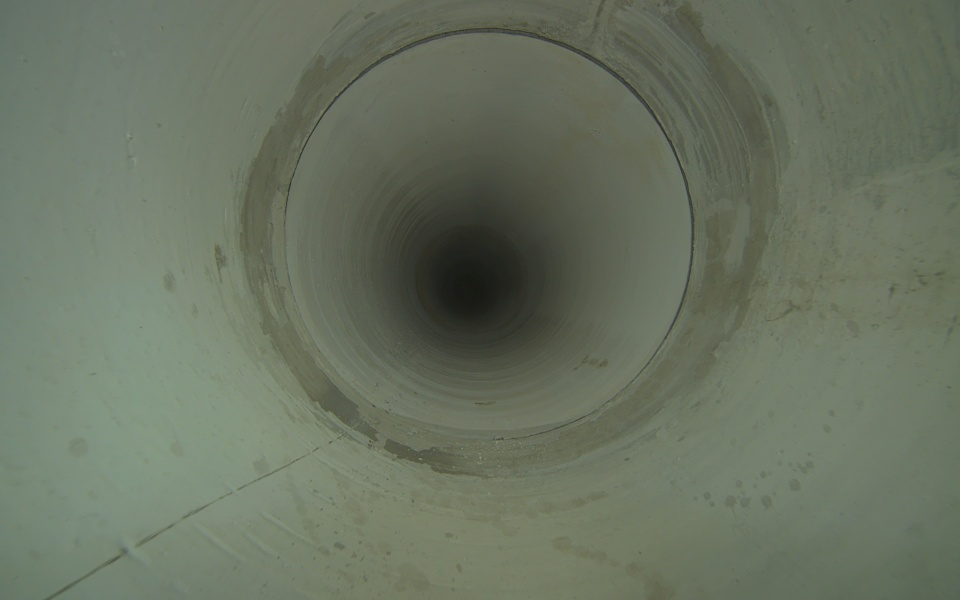circle1: (281, 27, 697, 442)
circle2: (448, 269, 495, 316)
